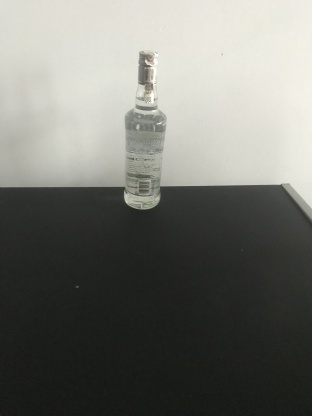nakretka: (136, 47, 159, 85)
